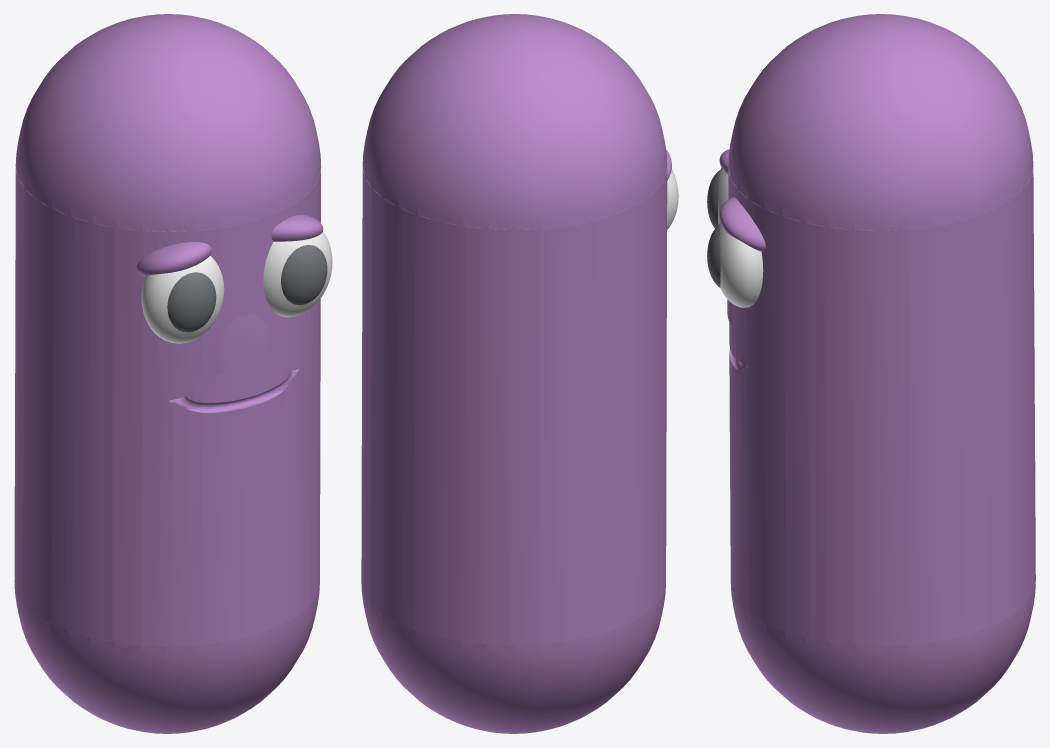
File: bean.gltf
The picture shows the model from 3 angles, left to right: view 1: azimuth 30°, elevation 25°; view 2: azimuth 150°, elevation 25°; view 3: azimuth 270°, elevation 25°; orthographic projection.
Visible parts, largest first — view 1: Object_4, Object_2, Object_3; view 2: Object_4, Object_2; view 3: Object_4, Object_2, Object_3.
Part boxes in pixels (x1,y1,x2,y2): Object_4: (14, 14, 323, 733); Object_2: (141, 231, 332, 343); Object_3: (167, 245, 327, 332); Object_4: (361, 14, 671, 733); Object_2: (667, 169, 678, 229); Object_4: (719, 14, 1035, 733); Object_2: (718, 168, 763, 307); Object_3: (707, 170, 720, 287).
Bounding box in the file's own units: 20 × 50 × 21.55.
